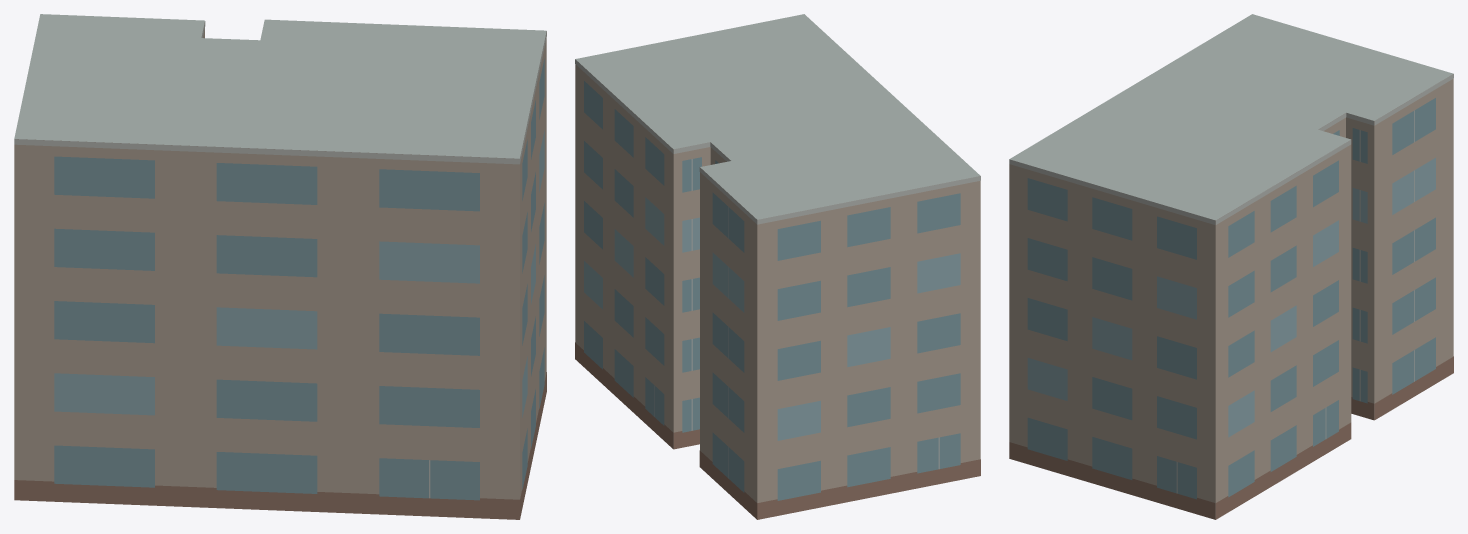
Rendered from survey-upis-32779134.glb.
3 renders of one model, left to right at view 1: azimuth 30°, elevation 25°; view 2: azimuth 150°, elevation 25°; view 3: azimuth 270°, elevation 25°, orthographic. The views are drawn at different scales.
Parts seen in each view (by area): view 1: survey-upis-32779134.tmp; view 2: survey-upis-32779134.tmp; view 3: survey-upis-32779134.tmp.
Boxes of the visible parts, x1,y1,x2,y2 form: survey-upis-32779134.tmp: [14, 14, 546, 519]; survey-upis-32779134.tmp: [575, 14, 980, 519]; survey-upis-32779134.tmp: [1009, 14, 1453, 519].
Size of the model in its own units: 22.63 by 15.3 by 20.59.
